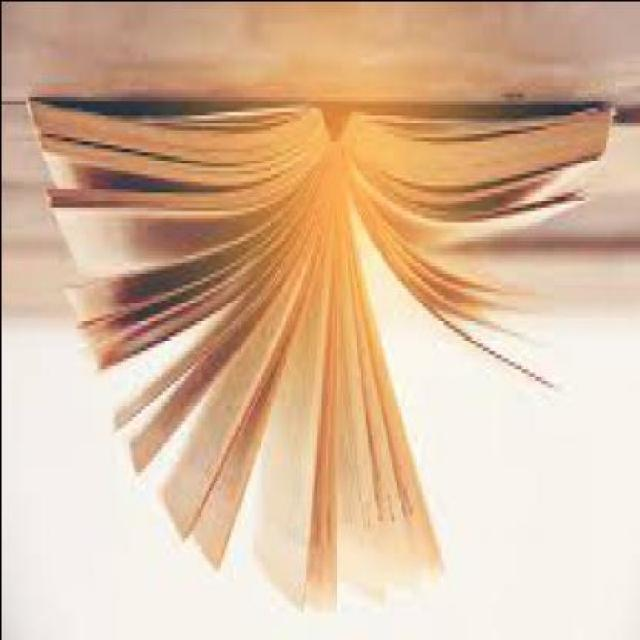PAPER: (26, 100, 614, 614)
